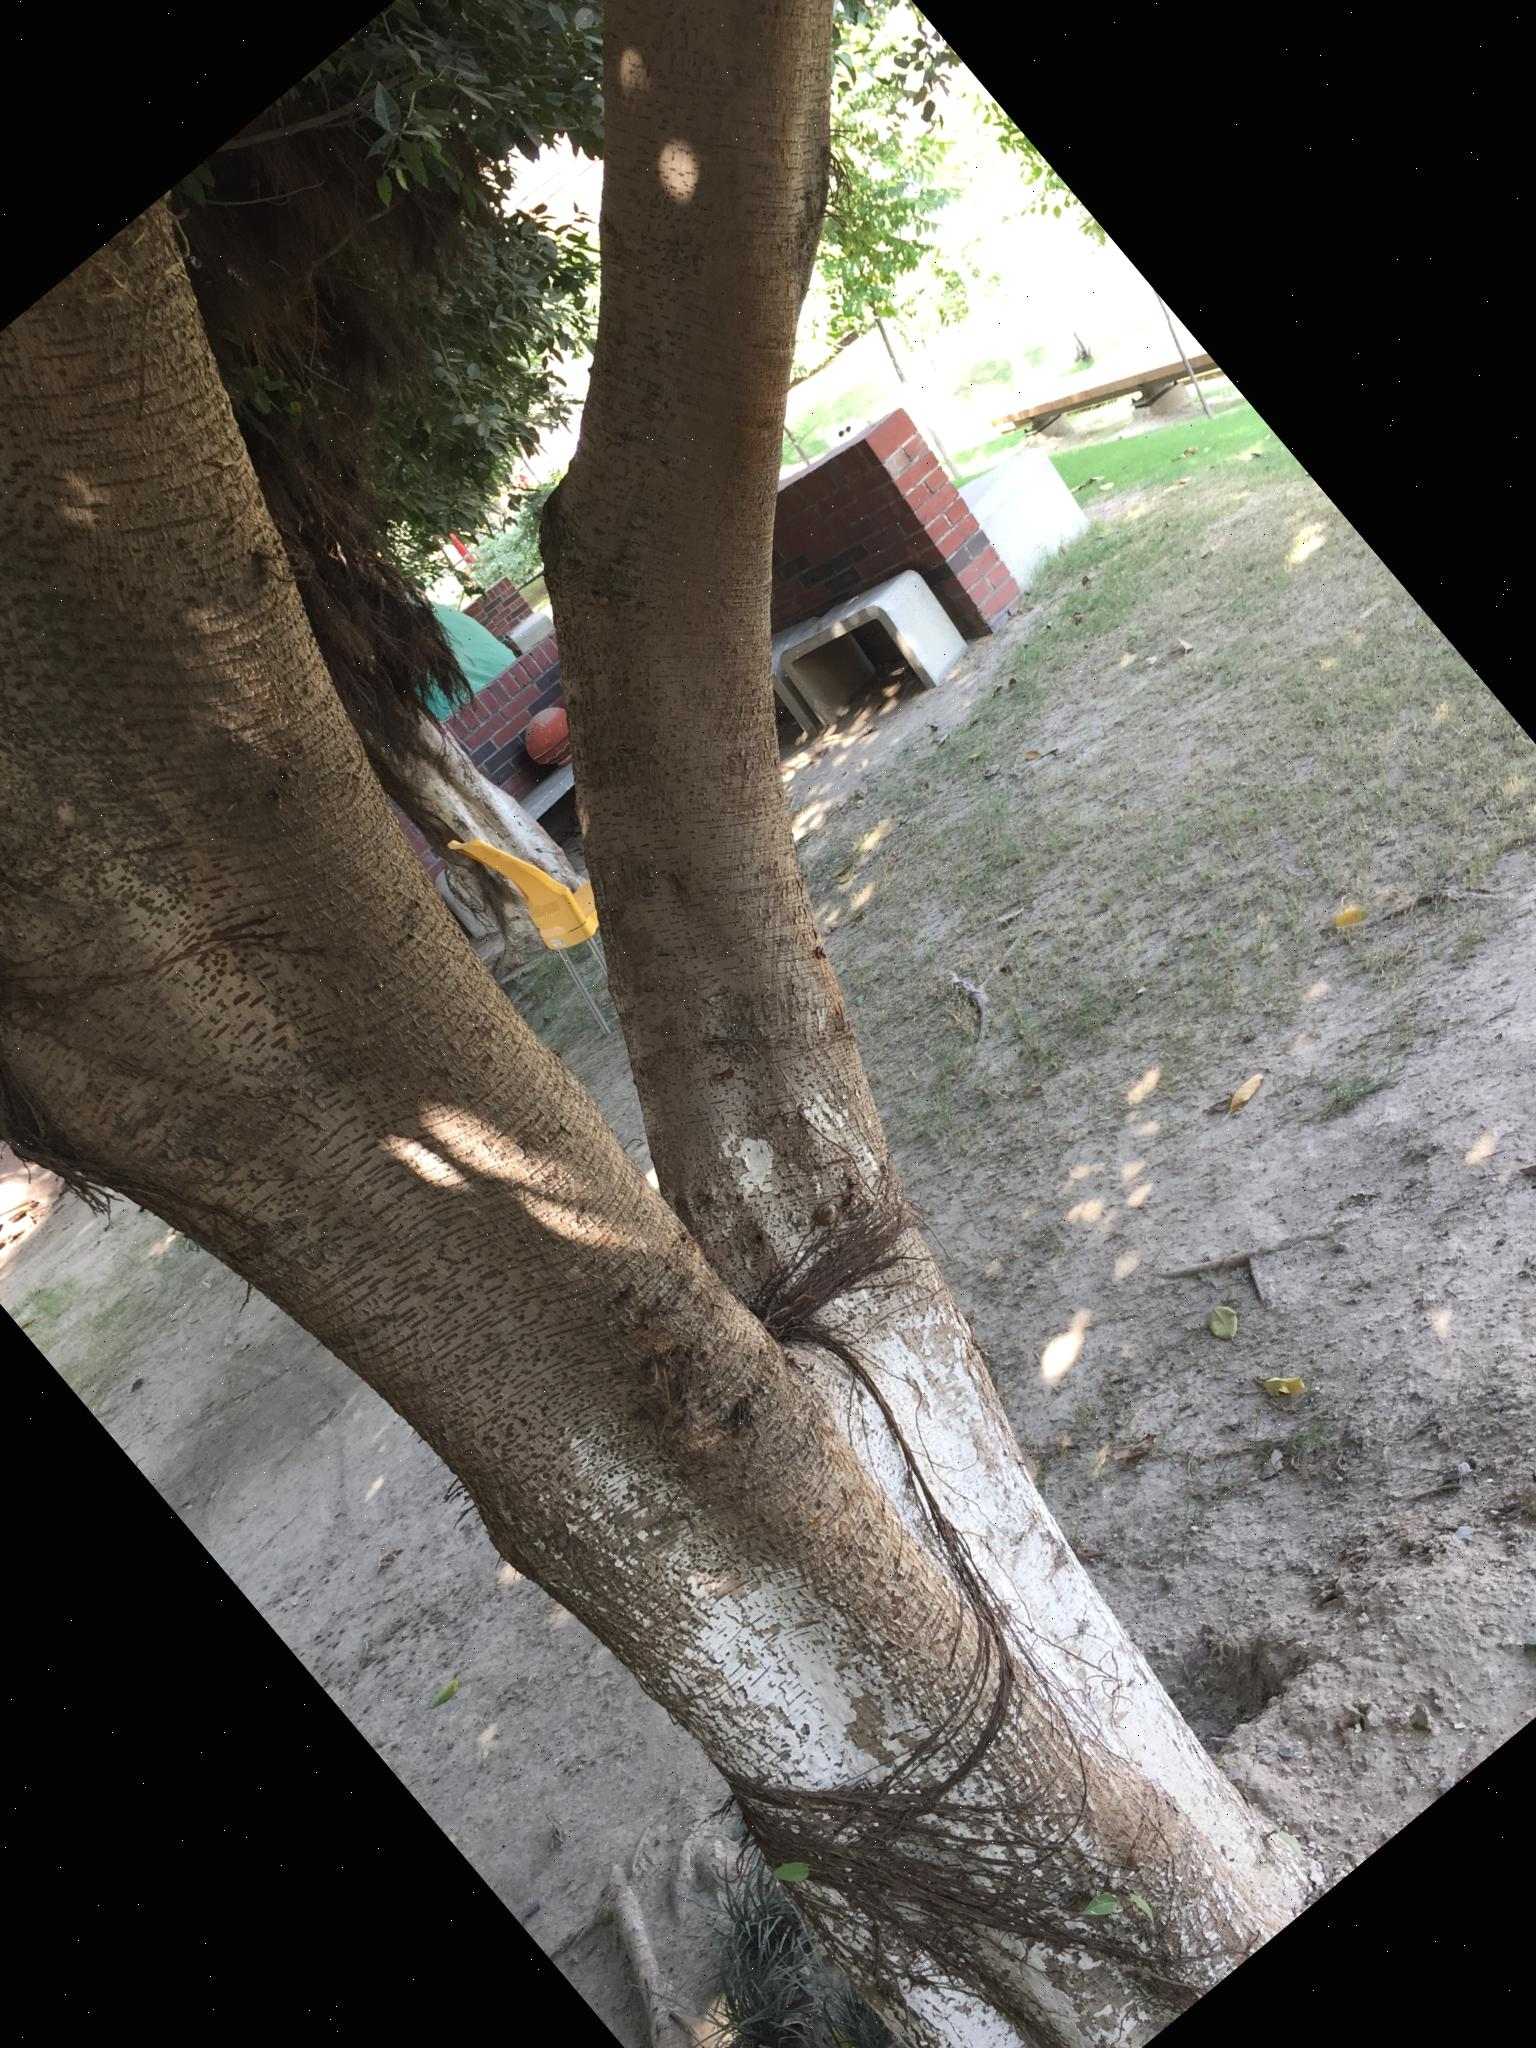chair: (440, 784, 678, 1040)
